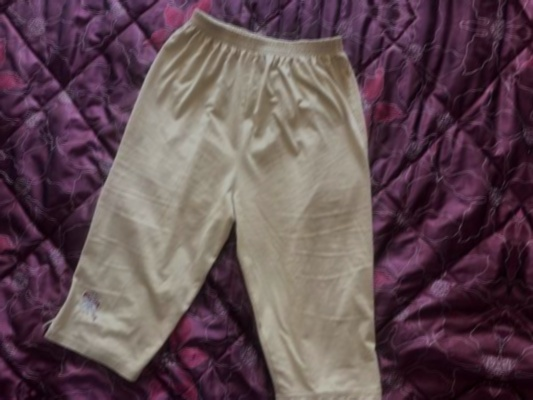Pants: (28, 1, 435, 400)
